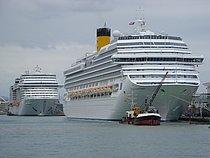Ship: (62, 7, 207, 125), (6, 62, 66, 119)
